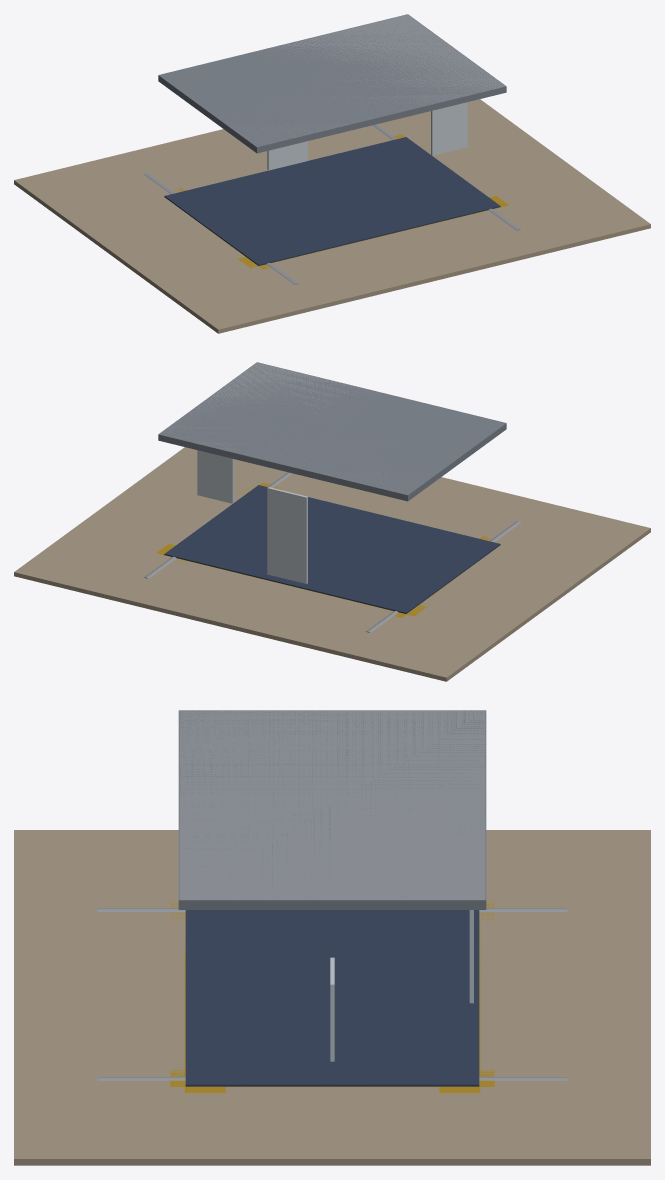
Rendered from stage_08_bands.glb.
The picture shows the model from 3 angles, top to bottom: view 1: azimuth 30°, elevation 25°; view 2: azimuth 150°, elevation 25°; view 3: azimuth 270°, elevation 25°; orthographic projection. The views are drawn at different scales.
Parts seen in each view (by area): view 1: world; view 2: world; view 3: world.
Part boxes in pixels (x1,y1,x2,y2): world: [14, 14, 650, 333]; world: [14, 362, 650, 681]; world: [14, 710, 650, 1165].
Size of the model in its own units: 11 by 3.75 by 9.
